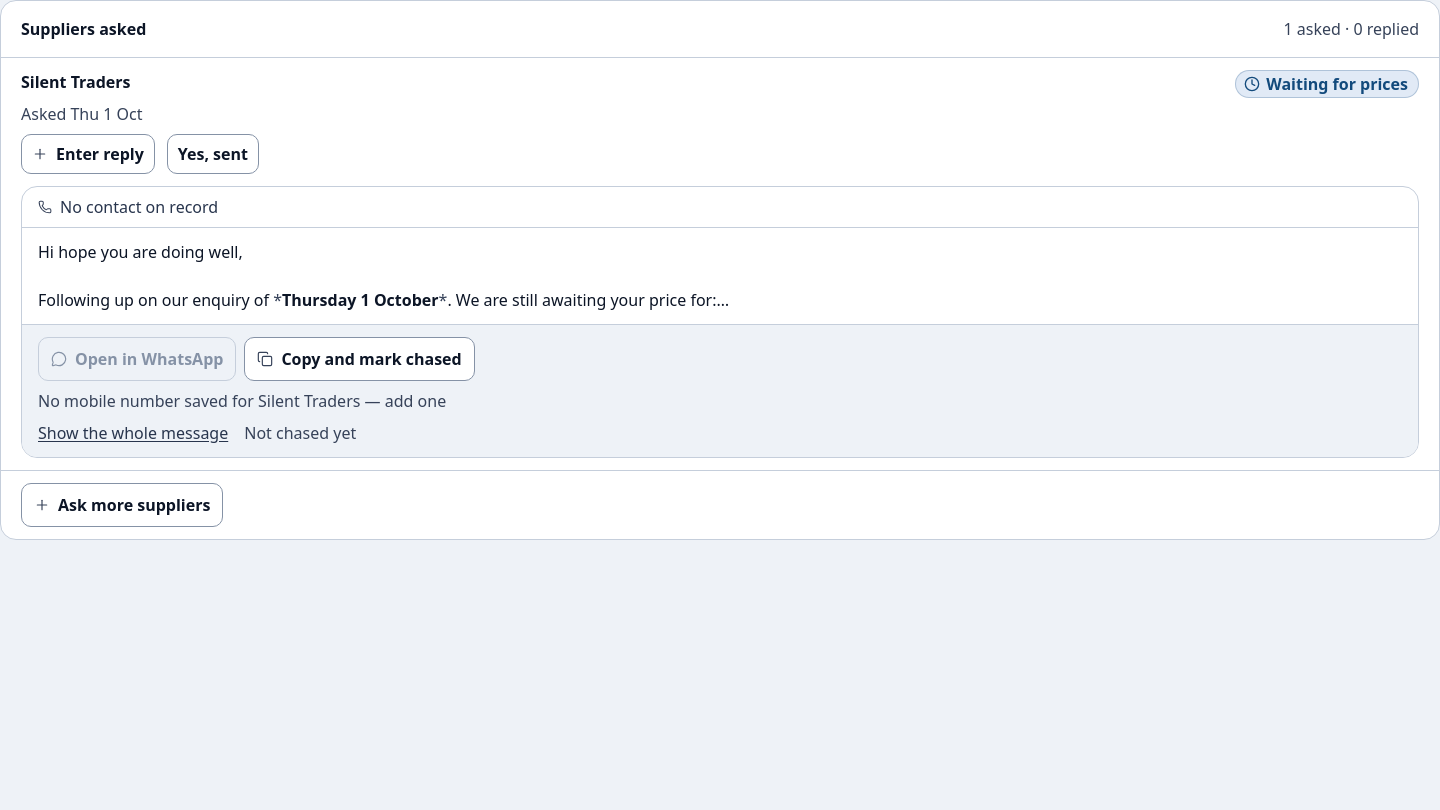
it: SuppliersAsked chase › a double tap on Chase records one chase, not two
Step 1. Double-click the button "Copy and mark chased" → {"x": 360, "y": 359}, box [244,337,475,381]
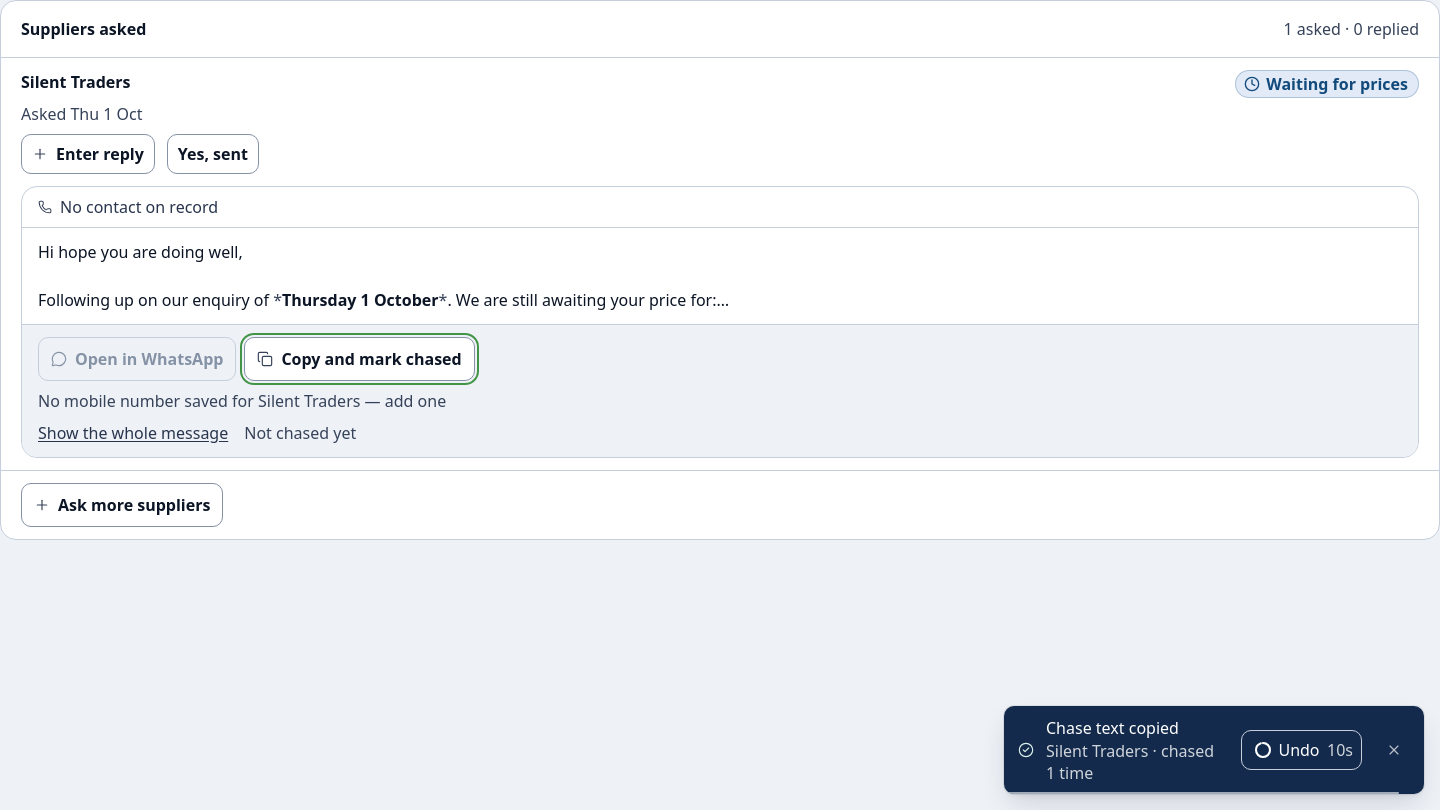
Expected: the text "Chase text copied" is shown, [1046,717,1179,739]
